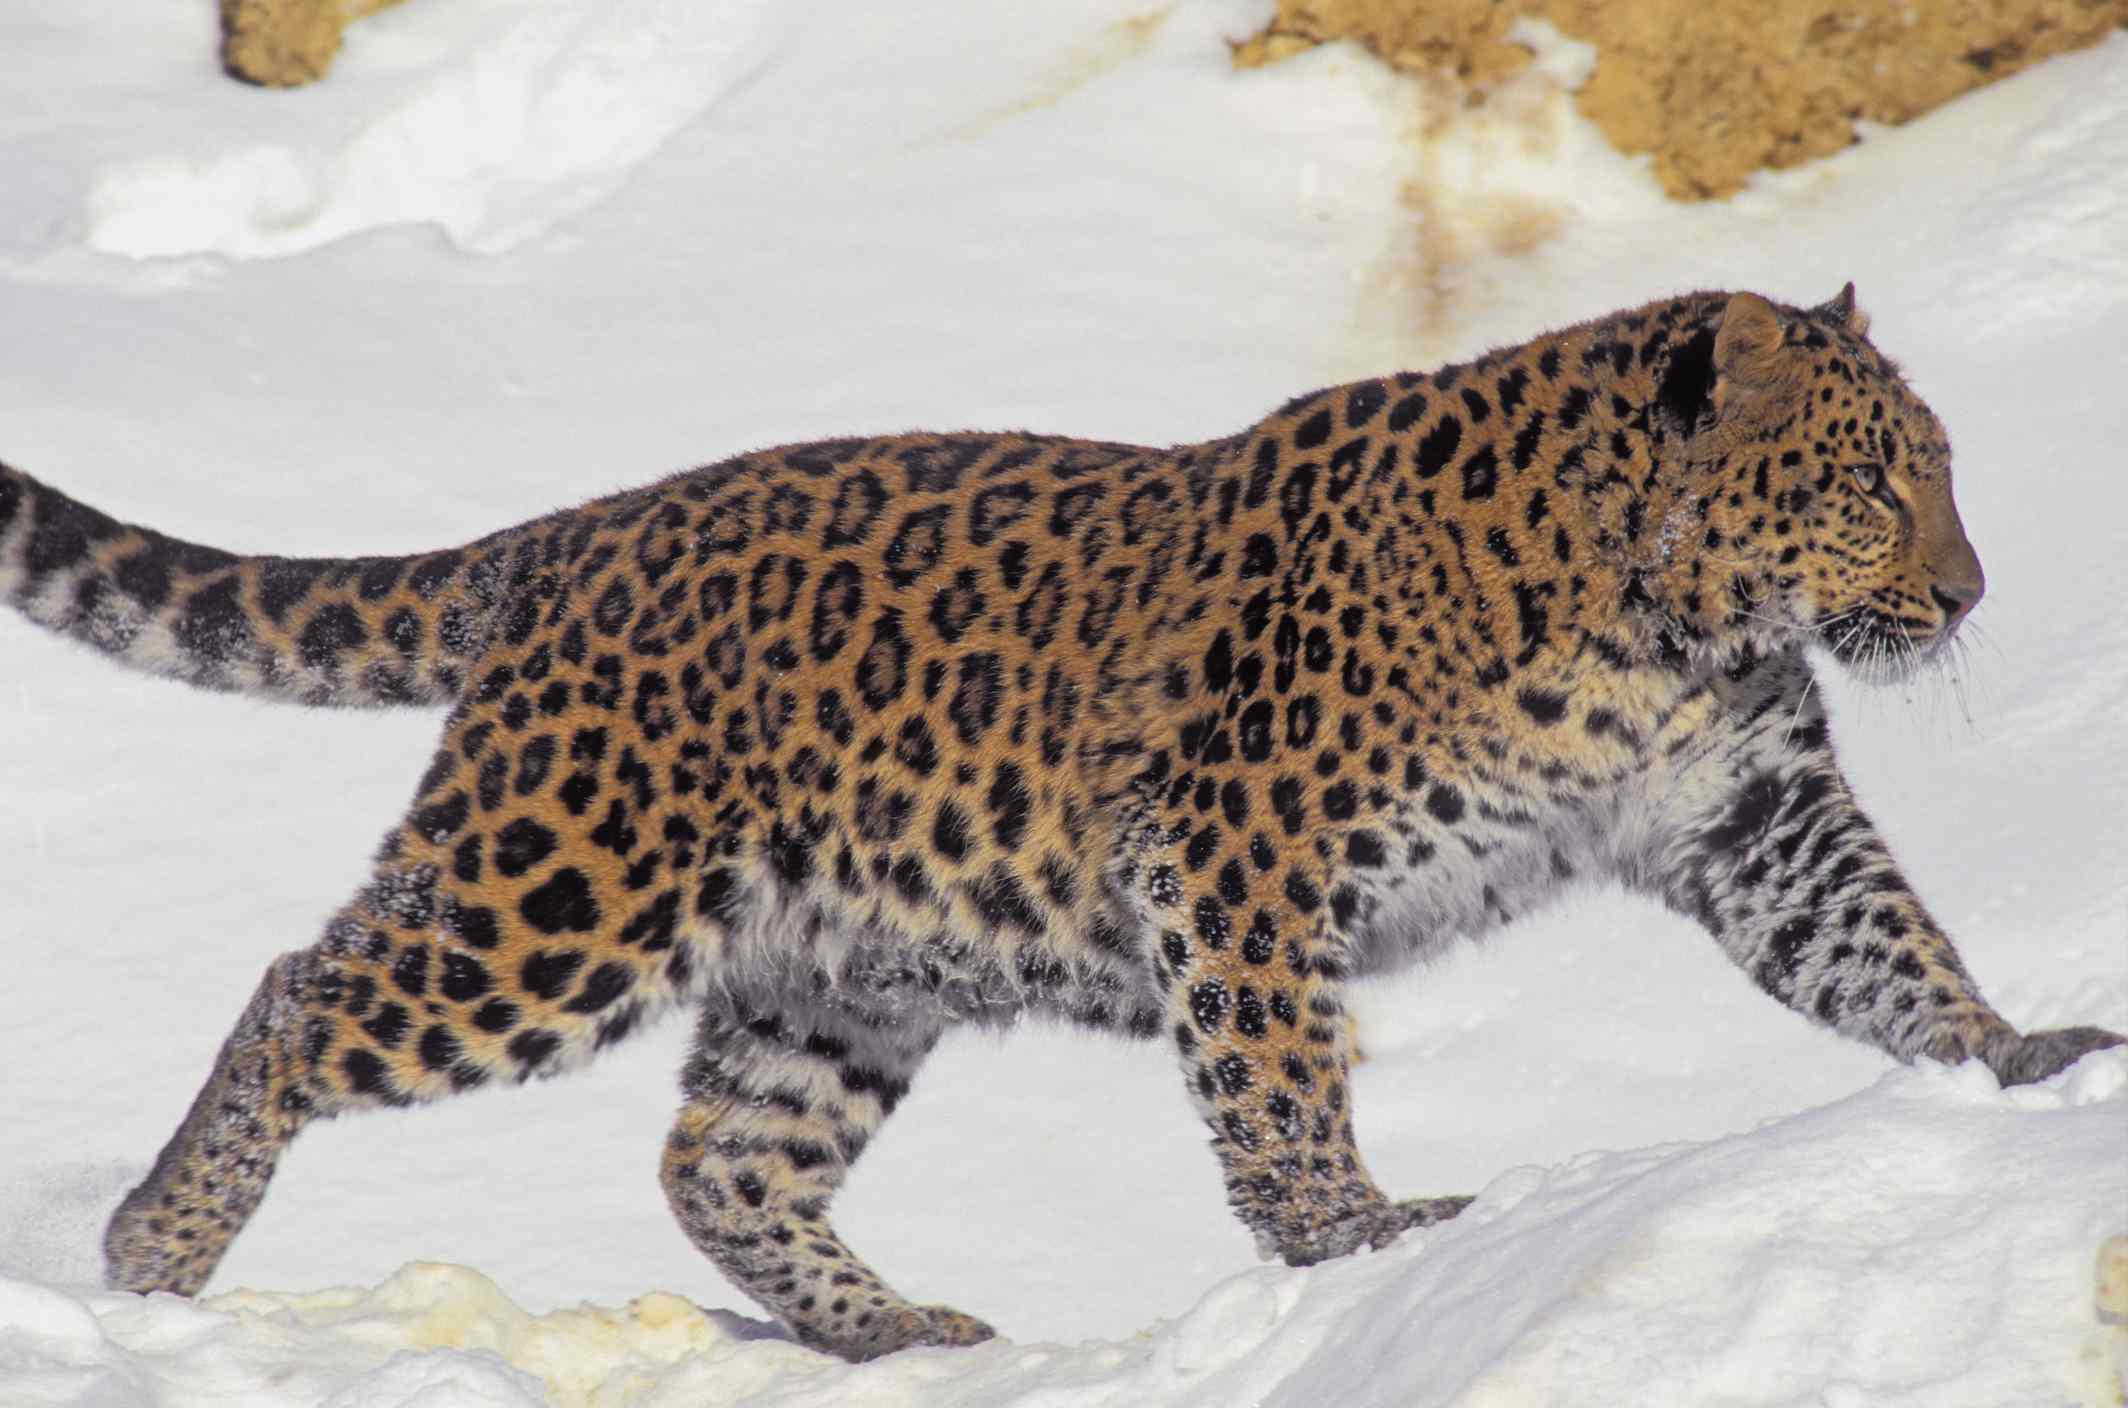amur_leopard: (130, 255, 2114, 1391)
